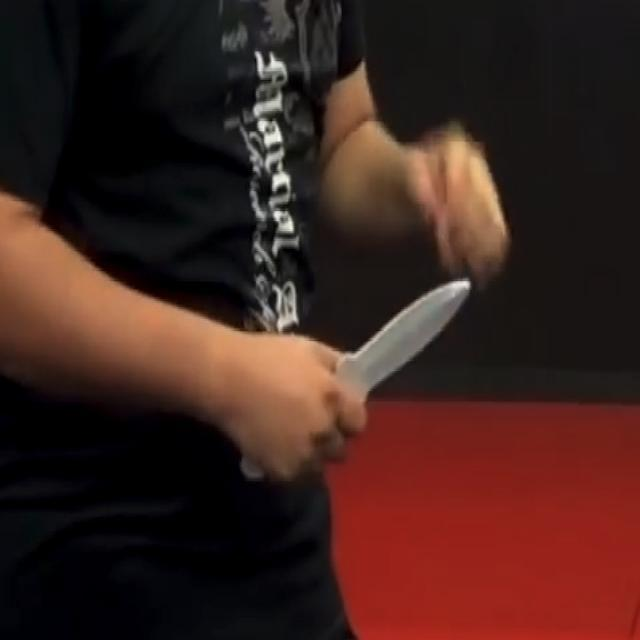suspicion: (3, 11, 479, 493), (347, 273, 474, 399), (238, 452, 264, 480)
